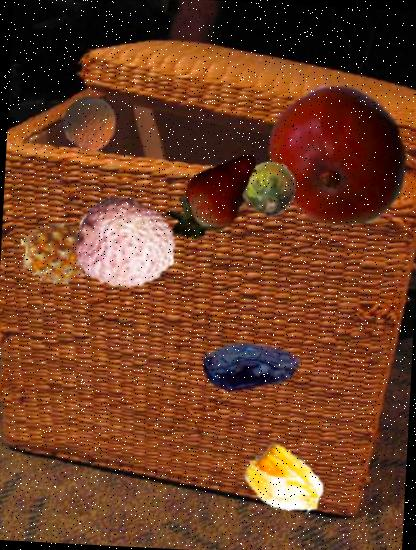Cactus: (241, 158, 299, 216)
Dates: (200, 316, 304, 419)
Lychee: (73, 191, 179, 297)
Mango: (264, 81, 415, 232)
Physalis: (241, 438, 330, 528)
Pineapple: (19, 217, 93, 291)
Strawberry: (158, 142, 263, 246)
Walnut: (61, 93, 120, 152)
